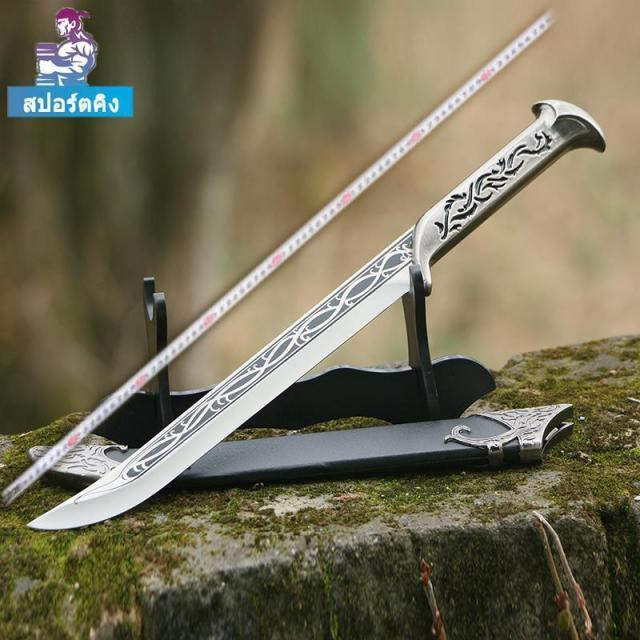short sword: (21, 97, 609, 547)
